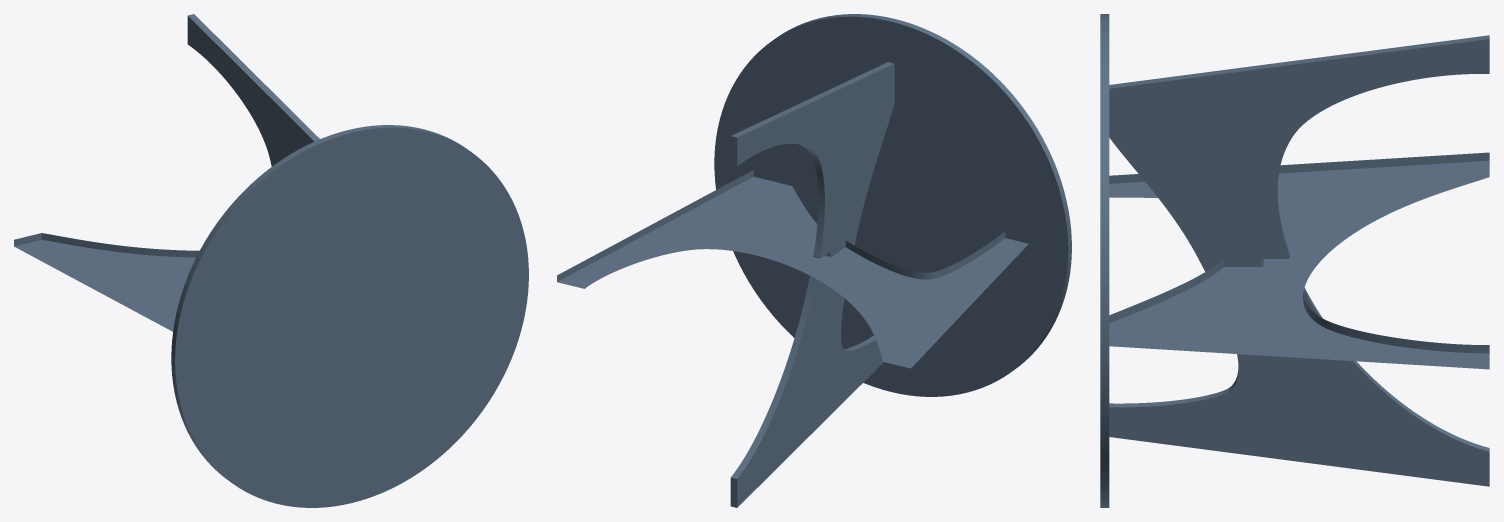
Rendered from NODO_MESA_REDONDA_CRUZ_CUARZO_V4.glb.
3 views of the same model, side by side, from view 1: azimuth 30°, elevation 25°; view 2: azimuth 150°, elevation 25°; view 3: azimuth 270°, elevation 25° (orthographic). The views are drawn at different scales.
Parts seen in each view (by area): view 1: Tapa_D1000, Pata_A, Pata_B; view 2: Tapa_D1000, Pata_B, Pata_A; view 3: Pata_B, Pata_A, Tapa_D1000.
Boxes of the visible parts, x1,y1,x2,y2 form: Tapa_D1000: (171,125,528,507); Pata_A: (14,233,199,331); Pata_B: (187,14,319,166); Tapa_D1000: (714,14,1071,396); Pata_B: (730,62,894,507); Pata_A: (557,170,1028,368); Pata_B: (1109,35,1489,486); Pata_A: (1109,152,1489,369); Tapa_D1000: (1100,14,1109,507).
Bounding box in the file's own units: 1000 × 1000 × 788.
